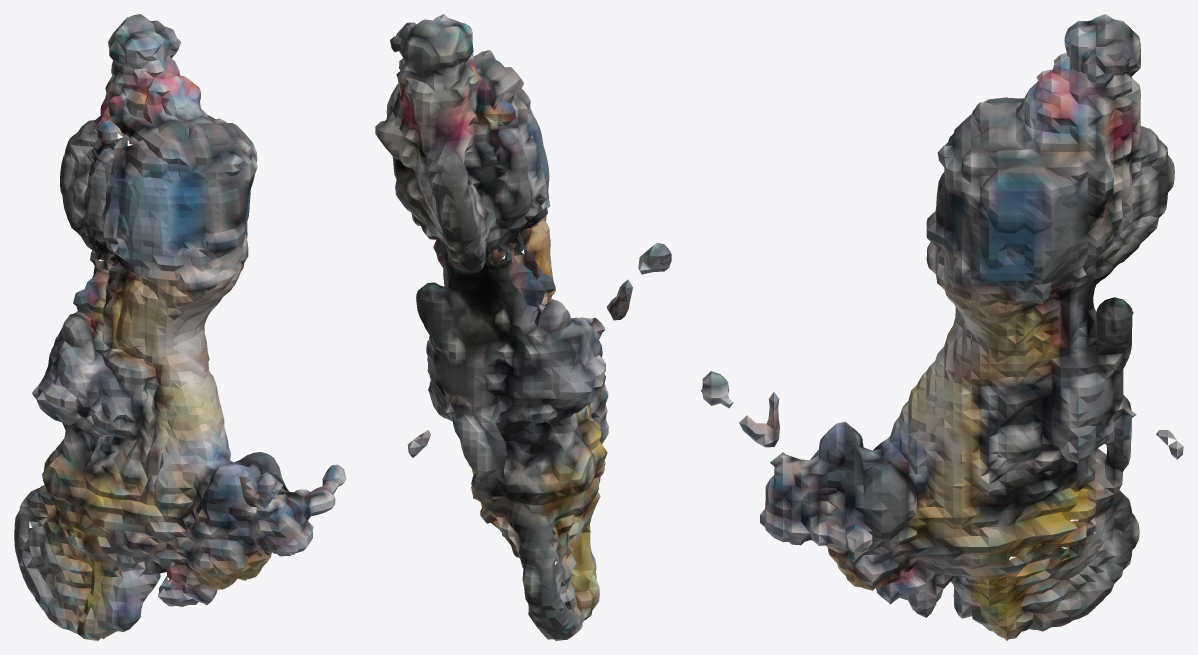
Rendered from 000002_motorcycle_vehicle_collector's item_10240_128.glb.
3 views of the same model, side by side, from view 1: azimuth 30°, elevation 25°; view 2: azimuth 150°, elevation 25°; view 3: azimuth 270°, elevation 25° (orthographic). The views are drawn at different scales.
Visible parts, largest first — view 1: world; view 2: world; view 3: world.
Boxes of the visible parts, bbox=[...] form: world: bbox=[14, 14, 346, 640]; world: bbox=[375, 14, 671, 640]; world: bbox=[700, 14, 1183, 640].
Bounding box in the file's own units: 0.4742 × 1.12 × 0.7395.
